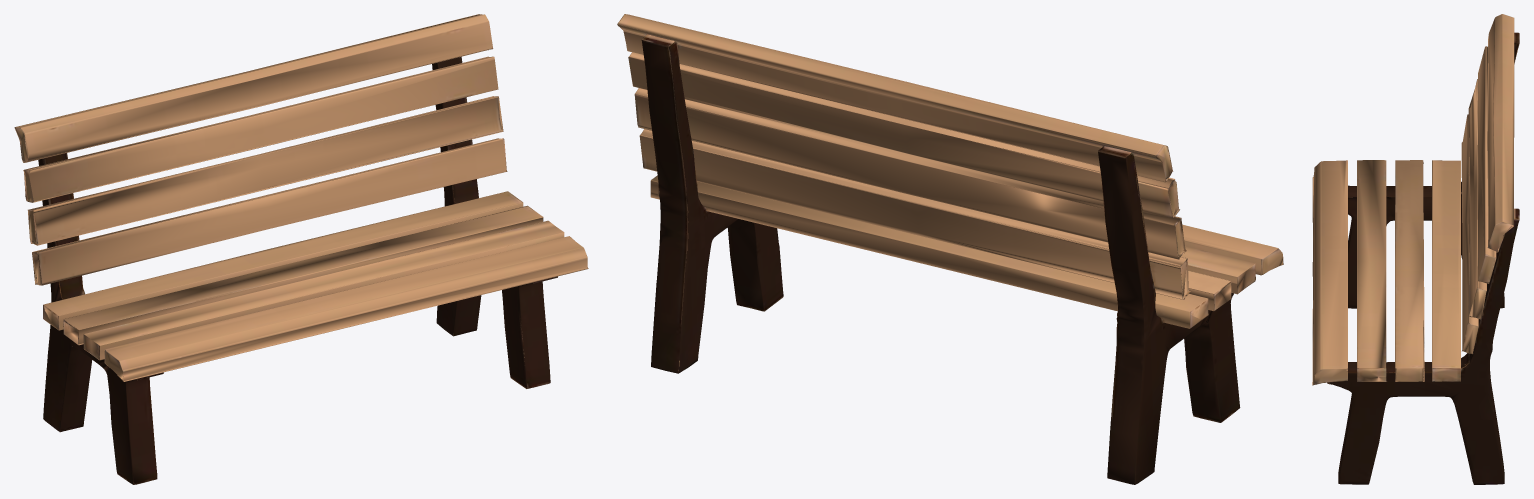
The model's file is bench.glb.
The picture shows the model from 3 angles, left to right: view 1: azimuth 30°, elevation 25°; view 2: azimuth 150°, elevation 25°; view 3: azimuth 270°, elevation 25°; orthographic projection. The views are drawn at different scales.
Size of the model in its own units: 0.9531 by 0.584 by 0.3993.
Materials: 1 (1 with a texture image).
